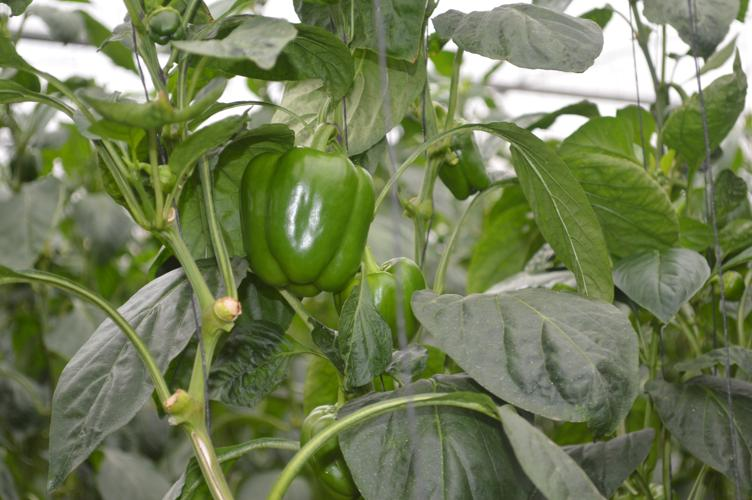BellPepper: (224, 136, 376, 296), (337, 257, 434, 347), (282, 399, 366, 499), (422, 112, 496, 195)
